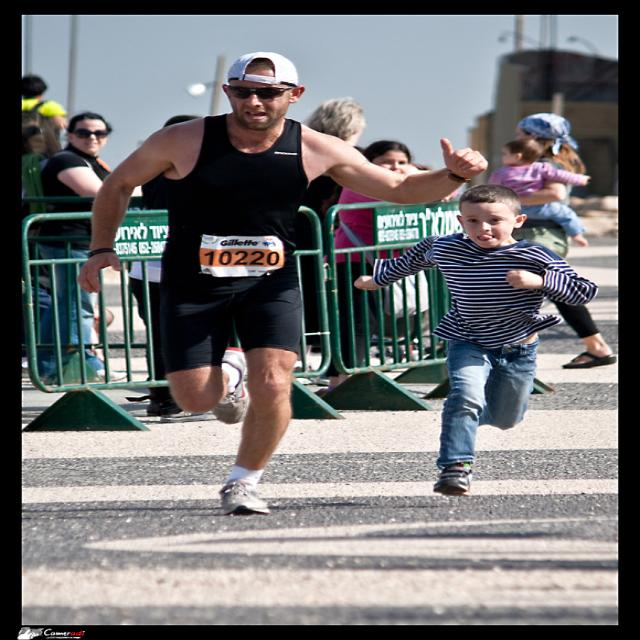Bib: (200, 250, 280, 268)
